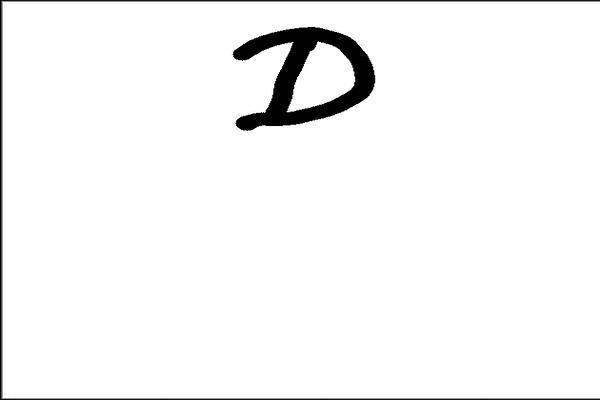D: (227, 17, 378, 142)
